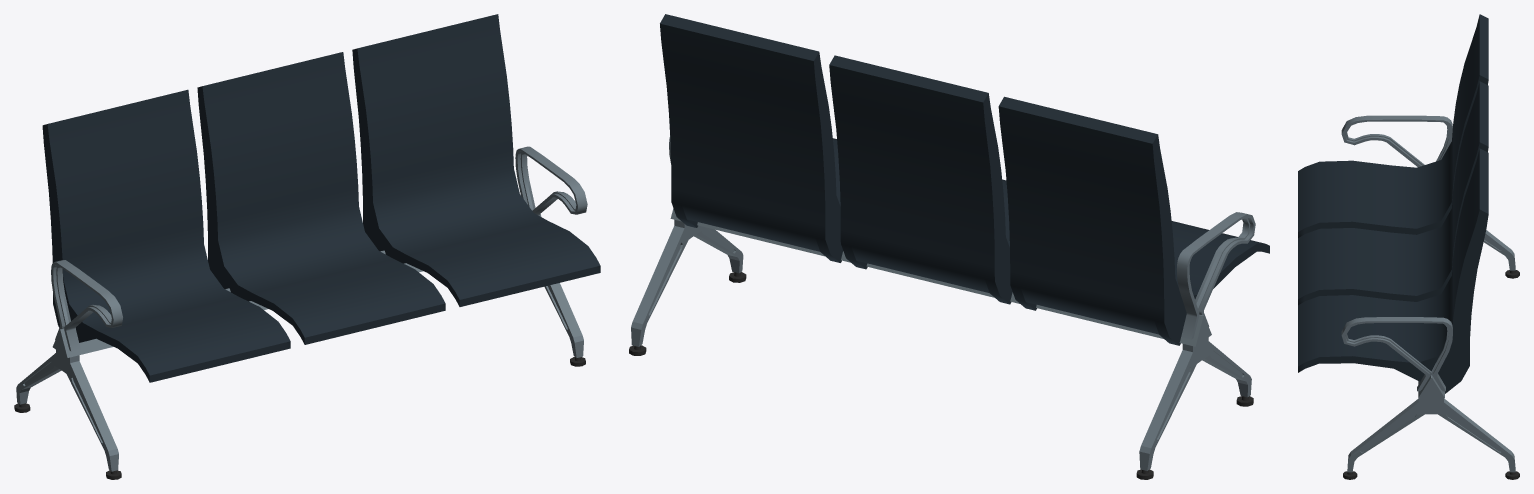
Rendered from SM_Props_Reception_05.fbx.
The picture shows the model from 3 angles, left to right: view 1: azimuth 30°, elevation 25°; view 2: azimuth 150°, elevation 25°; view 3: azimuth 270°, elevation 25°; orthographic projection. The views are drawn at different scales.
Visible parts, largest first — view 1: SM_Props_Reception_05; view 2: SM_Props_Reception_05; view 3: SM_Props_Reception_05.
Boxes of the visible parts, x1,y1,x2,y2 form: SM_Props_Reception_05: [14, 14, 600, 479]; SM_Props_Reception_05: [629, 14, 1269, 479]; SM_Props_Reception_05: [1298, 14, 1519, 479].
Size of the model in its own units: 2 by 1.19 by 0.9011.
